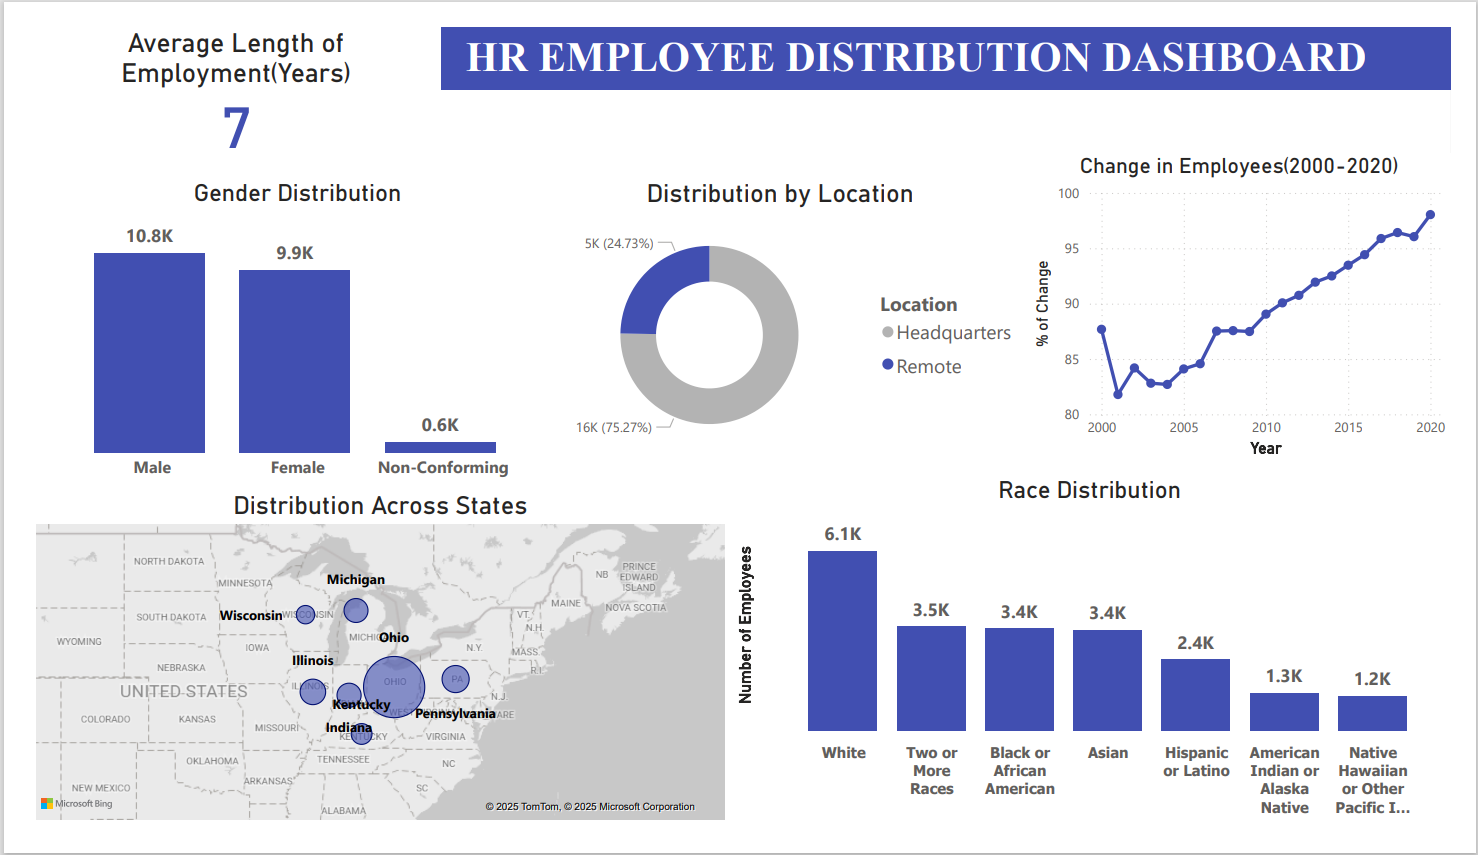

Layout of this report page (visuals, bound fields, positions):
{"tool":"powerbi","page":{"name":"Page 1","canvas":[1280,720],"ordinal":0},"visuals":[{"type":"textbox","box":[10,0,1048.5,44],"z":0},{"type":"card","title":"Average Length of Employment(Years)","fields":{"Values":["Sum(avg_length_emp.avg_length_emp)"]},"box":[999.5,0,280.1,135.1],"z":1000},{"type":"columnChart","title":"Gender Distribution","fields":{"Y":["Sum(Gender.count)"],"Category":["Gender.gender"]},"box":[10,44,461.2,316.1],"z":2000},{"type":"donutChart","title":"Headquarters Vs Remote","fields":{"Y":["Sum(Location.count)"],"Category":["Location.location"]},"box":[457.2,44,367.2,316.1],"z":3000},{"type":"lineChart","title":"Change in Employee Number(2000 - 2020)","fields":{"Category":["employee_change.year"],"Y":["Sum(employee_change.net_change_percent)"]},"box":[824.4,135.1,455.2,225.1],"z":4000},{"type":"map","title":"Employees by State","fields":{"Size":["Sum(State.count)"],"Category":["State.location_state"]},"box":[10,370,461,316],"z":5000},{"type":"clusteredColumnChart","title":"Race Distribution","fields":{"Category":["Race.race"],"Y":["Sum(Race.count)"]},"box":[471.2,370.2,808.4,316.1],"z":5001}]}

Visuals, with their boxes in screenshot pixels (x1, y1, x2, y2), scaled from the page's 1280x720 canvas onto the 1478x855 screenshot:
textbox: locate(12, 0, 1222, 52)
"Average Length of Employment(Years)" card: locate(1154, 0, 1477, 160)
"Gender Distribution" columnChart: locate(12, 52, 544, 428)
"Headquarters Vs Remote" donutChart: locate(528, 52, 952, 428)
"Change in Employee Number(2000 - 2020)" lineChart: locate(952, 160, 1477, 428)
"Employees by State" map: locate(12, 439, 544, 815)
"Race Distribution" clusteredColumnChart: locate(544, 440, 1477, 815)
